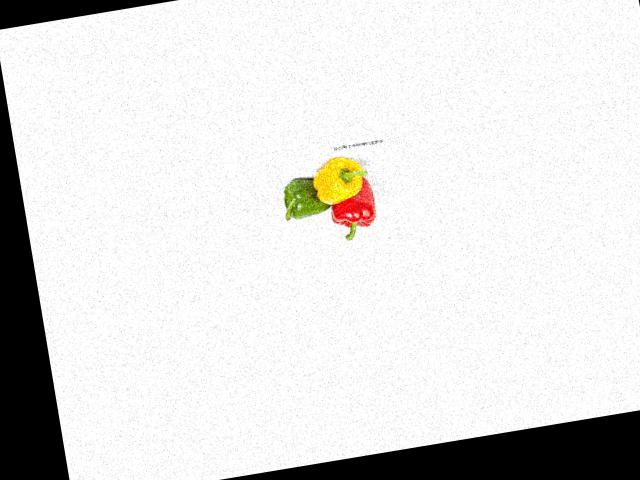bell_pepper: (326, 178, 384, 242)
